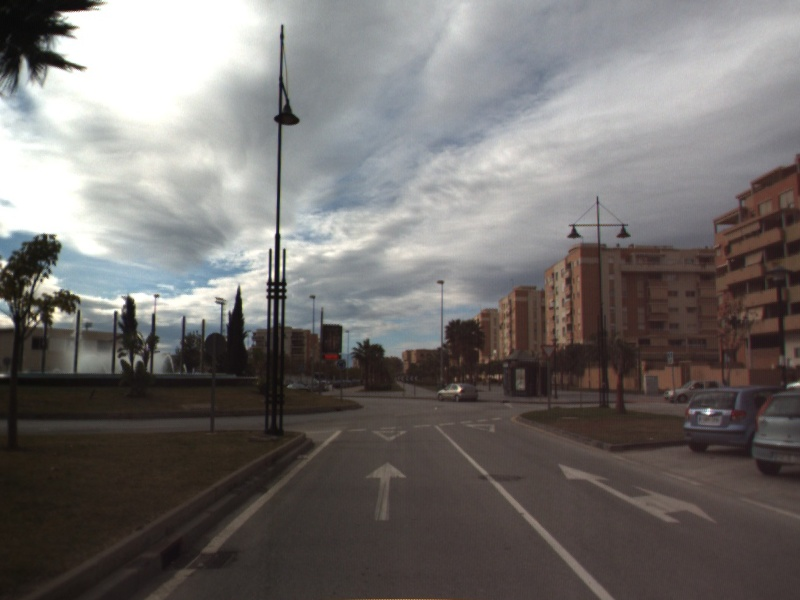STRAIGHT: (364, 459, 409, 523)
STRAIGHT_RIGHT: (557, 462, 719, 526)
